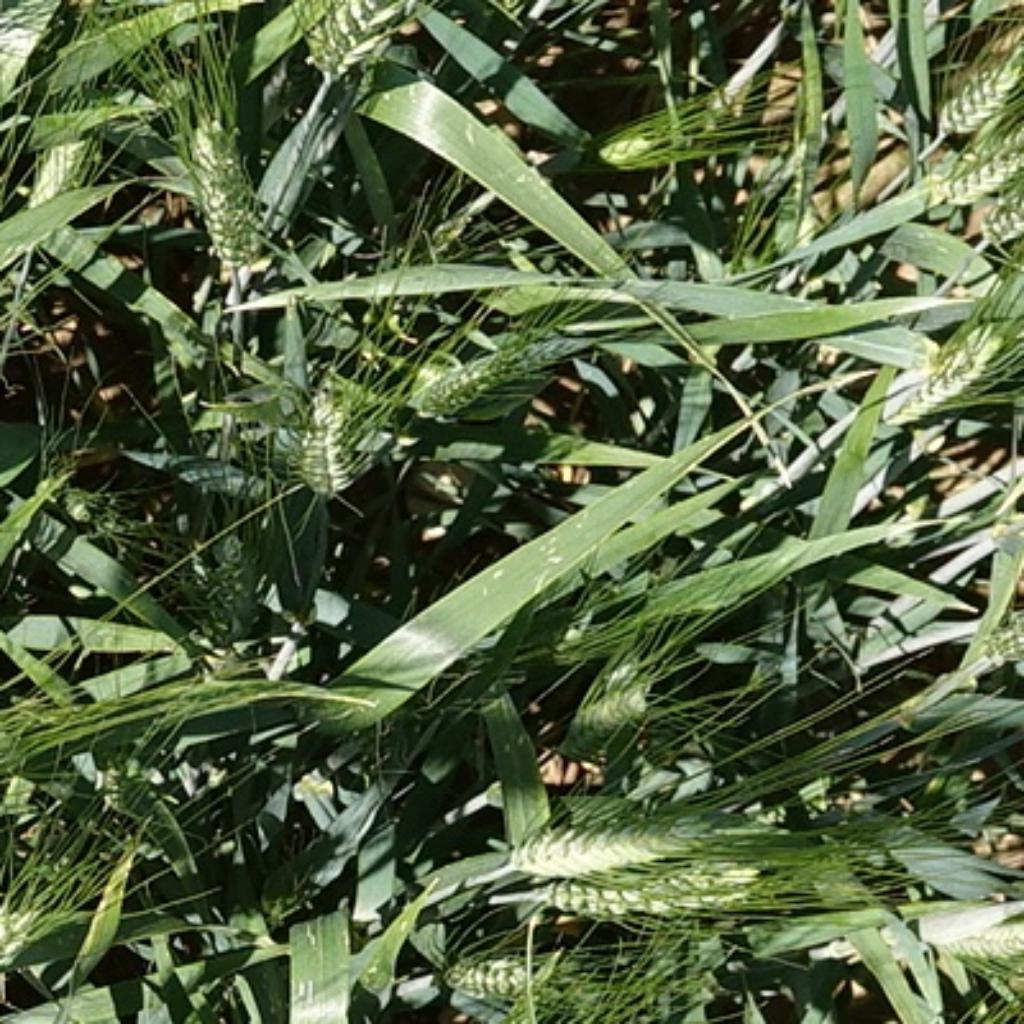0-0: (532, 94, 742, 199), (519, 852, 768, 929), (161, 104, 279, 266), (486, 806, 711, 880), (409, 323, 573, 419), (158, 517, 273, 640), (883, 317, 1000, 433), (913, 23, 1018, 135), (906, 115, 1021, 215), (289, 1, 427, 80), (274, 399, 374, 508), (20, 107, 102, 238), (563, 650, 660, 750), (438, 939, 554, 1019), (896, 898, 1024, 970), (948, 605, 1024, 711), (52, 479, 110, 562), (965, 197, 1024, 248)
